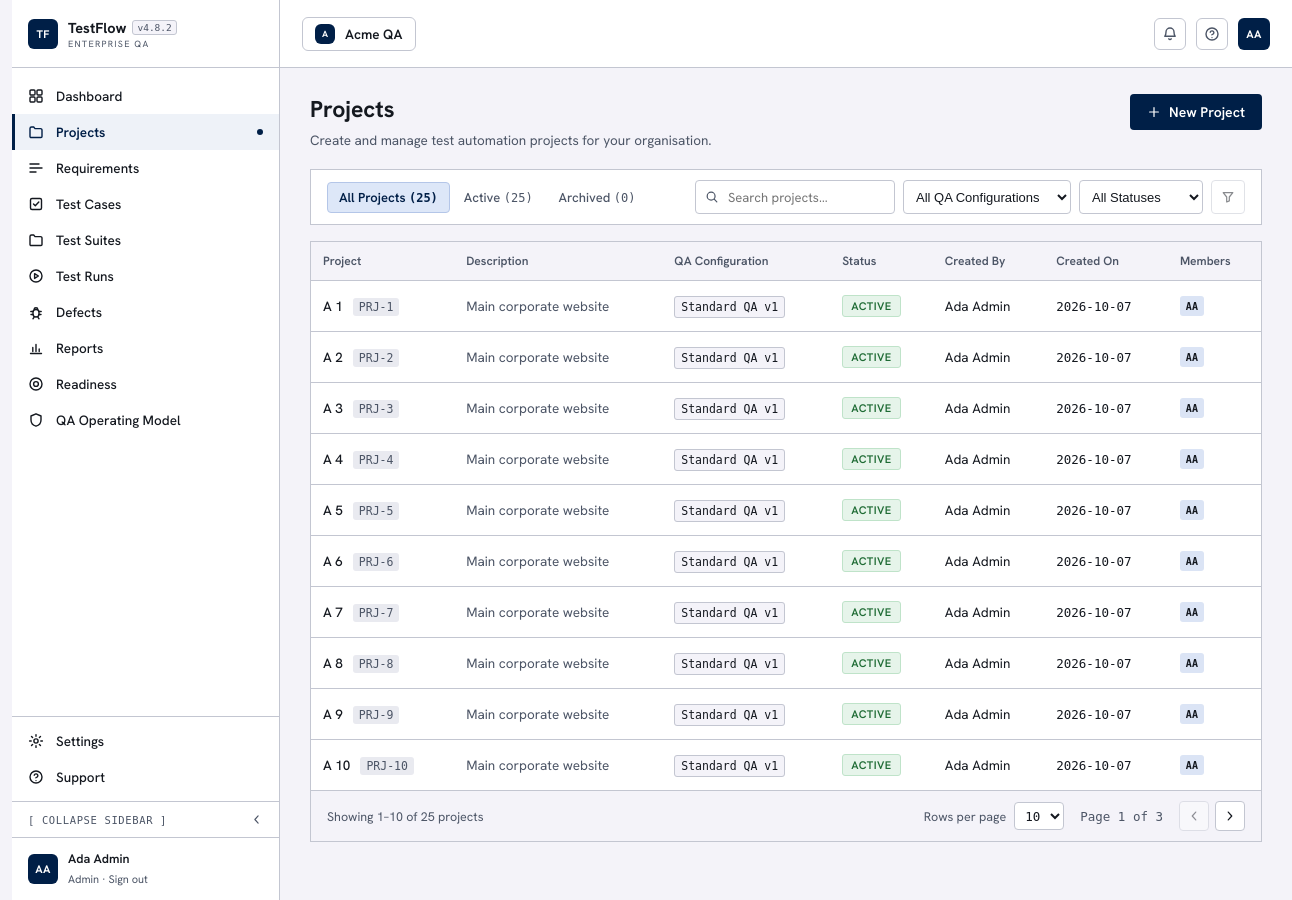
Test case: Projects page › Projects — List: pagination › Next loads the following page with the server cursor, and Previous returns to the first page
Check: the text "A 1" is shown, box 323,297 -> 343,315
Click the button named "Next page" at (1230, 816), box 1215,801 -> 1245,831
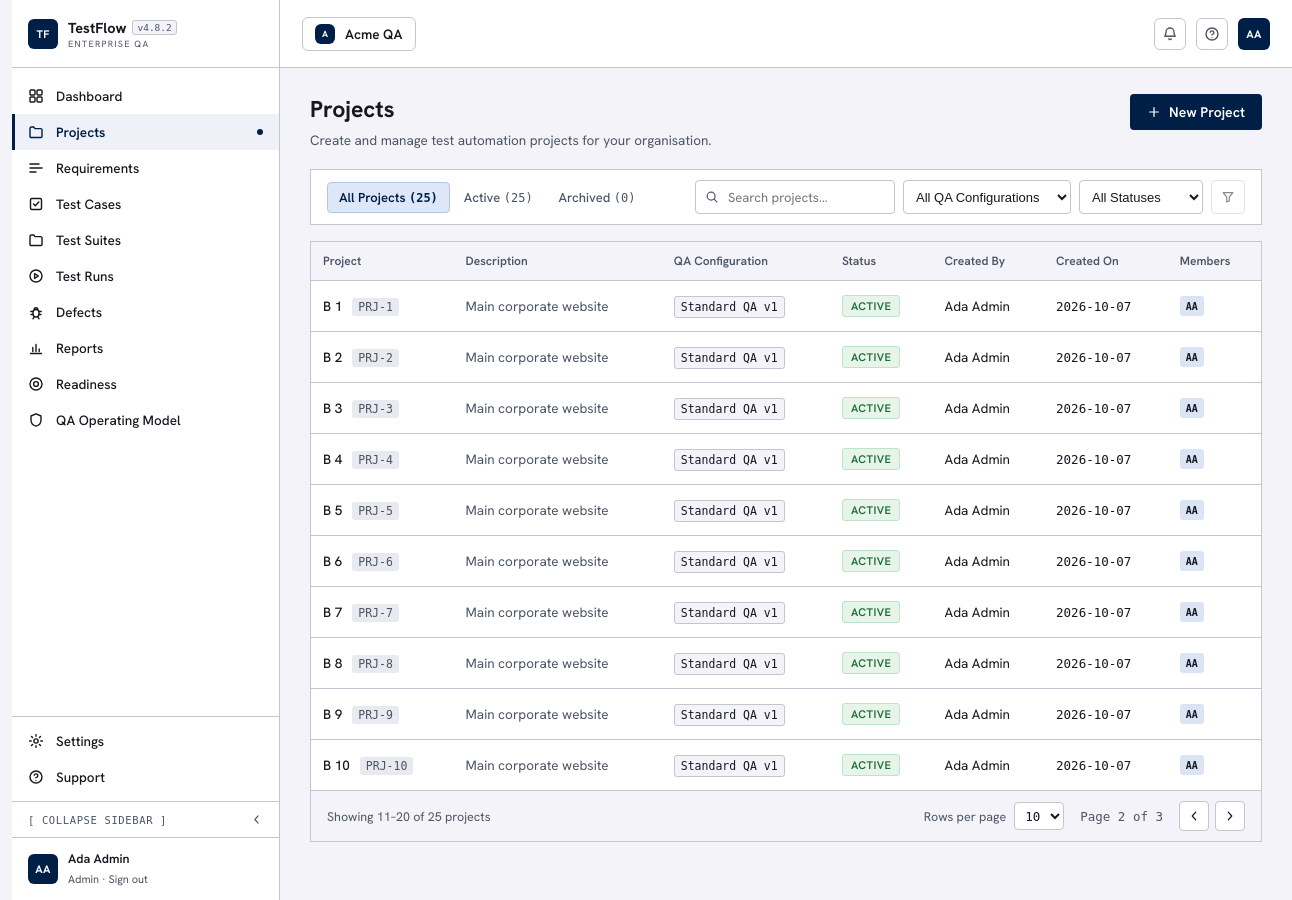
Check: the text "B 1" is shown, box 323,297 -> 342,315
Check: the text "A 1" is gone
Check: the text "Showing 11–20 of 25 projects" is shown, box 327,808 -> 490,824
Click the button named "Previous page" at (1194, 816), box 1179,801 -> 1209,831
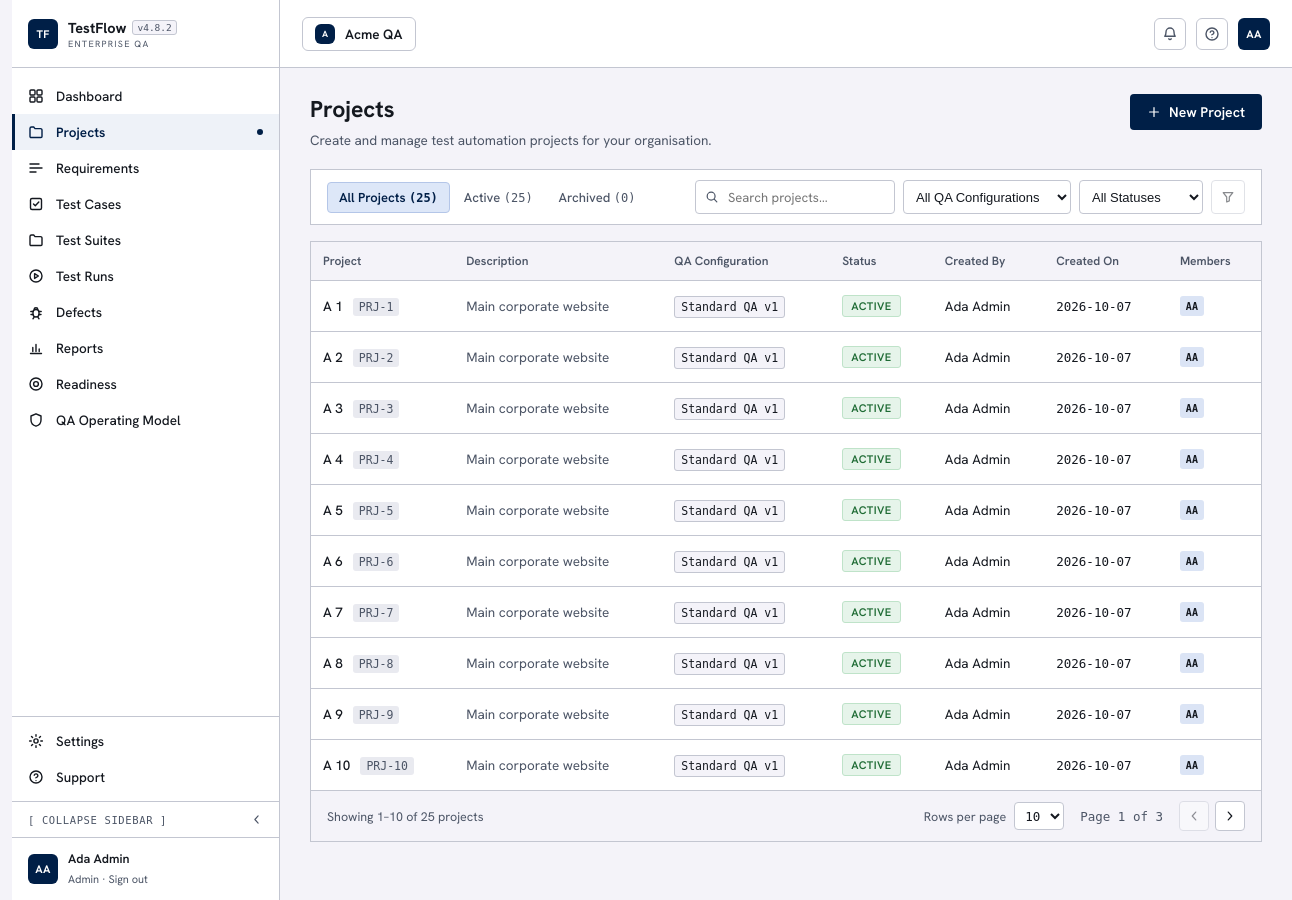
Check: the text "A 1" is shown, box 323,297 -> 343,315
Check: the text "Page 1 of 3" is shown, box 1080,808 -> 1163,824
